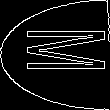M_E: (5, 32, 105, 78)
